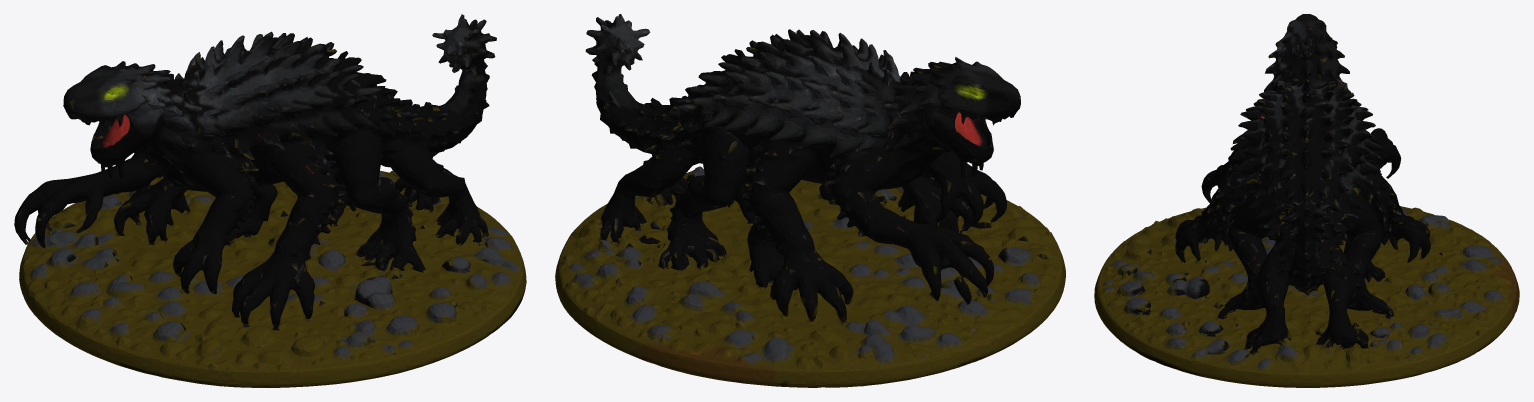
The model's file is grotao.glb.
The picture shows the model from 3 angles, left to right: view 1: azimuth 30°, elevation 25°; view 2: azimuth 150°, elevation 25°; view 3: azimuth 270°, elevation 25°; orthographic projection. The views are drawn at different scales.
Visible parts, largest first — view 1: tmp0nk_uwof.ply; view 2: tmp0nk_uwof.ply; view 3: tmp0nk_uwof.ply.
Part boxes in pixels (box(x1,y1,x2,y2)): tmp0nk_uwof.ply: box(14, 14, 526, 387); tmp0nk_uwof.ply: box(555, 14, 1065, 387); tmp0nk_uwof.ply: box(1094, 14, 1519, 387).
Size of the model in its own units: 1.96 by 1.08 by 1.95.
Materials: 1 (1 with a texture image).
